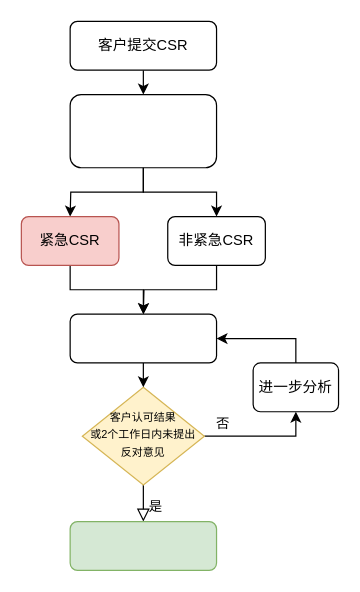
The diagram is 360 pixels wide and 592 high, and some of its shapes have lost their labels. The shapes that lost their labels are listed below. From the top down, each one's centre as x and y in pixels, then its label:
the point at 143,130: 1、登记并编号 2、分级并划分优先次序
the point at 143,338: CSR处理结果及建议
the point at 143,545: CSR结束
